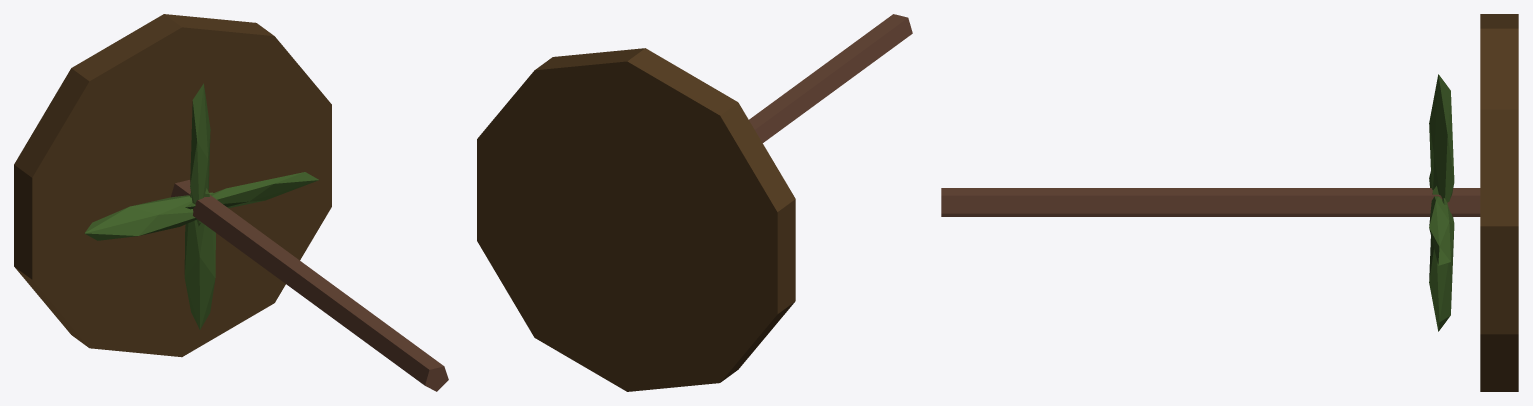
File: 2_growing.obj
3 views of the same model, side by side, from view 1: azimuth 30°, elevation 25°; view 2: azimuth 150°, elevation 25°; view 3: azimuth 270°, elevation 25° (orthographic). The views are drawn at different scales.
Visible parts, largest first — view 1: rose_2_growing; view 2: rose_2_growing; view 3: rose_2_growing.
Boxes of the visible parts, box(x1,y1,x2,y2) form: rose_2_growing: box(14, 14, 448, 391); rose_2_growing: box(477, 14, 912, 391); rose_2_growing: box(941, 14, 1518, 391).
Bounding box in the file's own units: 0.1902 × 0.2 × 0.3.
